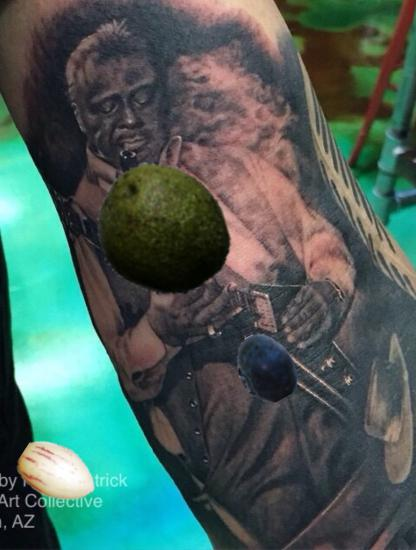Avocado: (93, 160, 231, 298)
Blueberry: (230, 332, 302, 404)
Pepino: (18, 433, 98, 513)
